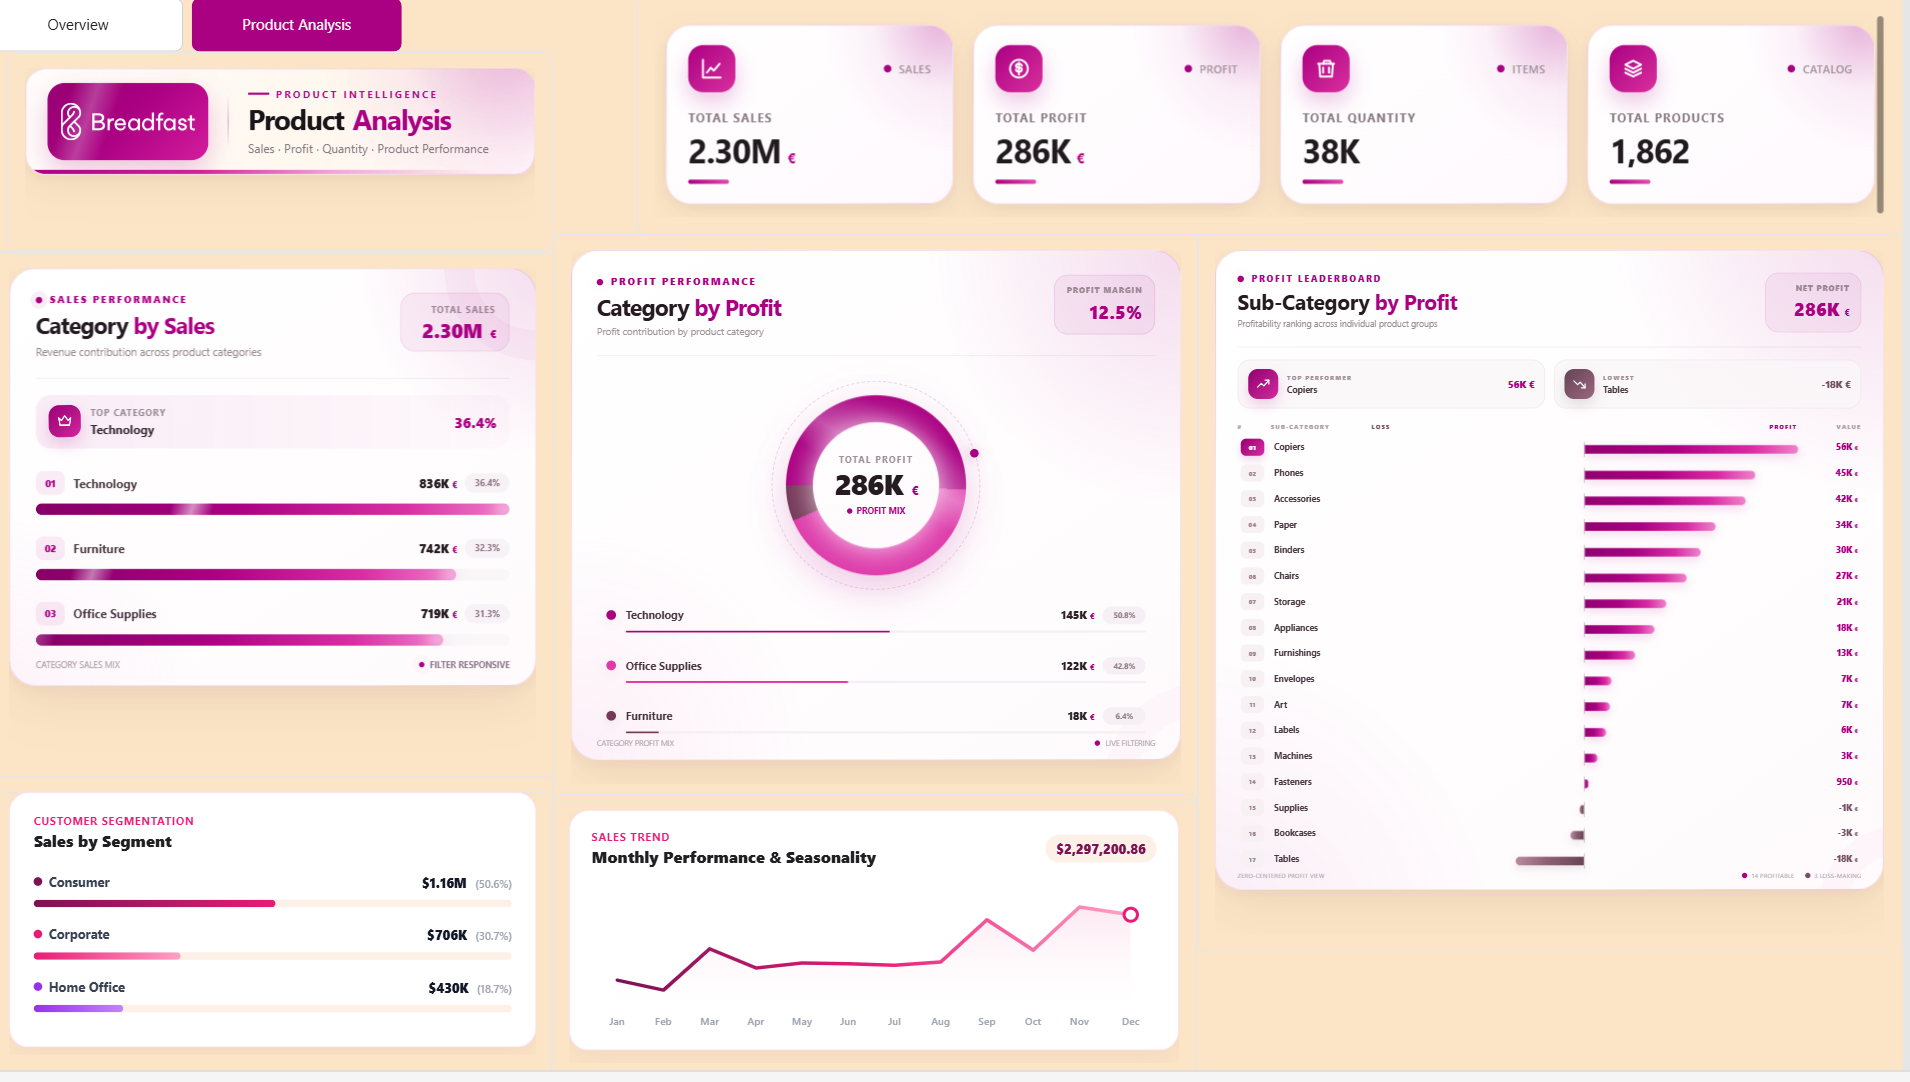

The dashboard page shown, as its layout file describes it:
{"tool":"powerbi","page":{"name":"Product Analysis","canvas":[1800,1000],"ordinal":1},"visuals":[{"type":"htmlContent443BE3AD55E043BF878BED274D3A6855","fields":{"content":["Dax Measures.BF KPI Cards HTML"]},"box":[618.6,0,1181.4,220.9],"z":0},{"type":"htmlContent443BE3AD55E043BF878BED274D3A6855","fields":{"content":["Dax Measures.BF Header Product Analysis"]},"box":[32.6,51.2,509.3,186],"z":1000},{"type":"htmlContent443BE3AD55E043BF878BED274D3A6855","fields":{"content":["Dax Measures.BF - Category Sales HTML"]},"box":[16.3,237.2,525.6,504.7],"z":2000},{"type":"htmlContent443BE3AD55E043BF878BED274D3A6855","fields":{"content":["Dax Measures.BF - Category Profit HTML"]},"box":[541.9,220.9,602.3,530.2],"z":3000},{"type":"htmlContent443BE3AD55E043BF878BED274D3A6855","fields":{"content":["Dax Measures.BF - SubCategory Profit HTML"]},"box":[1141.9,220.9,658.1,669.8],"z":4000},{"type":"htmlContent443BE3AD55E043BF878BED274D3A6855","fields":{"content":["Dax Measures.HTML_Monthly_Sales_Trend"]},"box":[539.5,741.9,602.3,267.4],"z":5000},{"type":"htmlContent443BE3AD55E043BF878BED274D3A6855","fields":{"content":["Dax Measures.HTML_Customer_Segments"]},"box":[16.3,725.6,525.6,276.7],"z":6000},{"type":"pageNavigator","box":[0,0,400,50],"z":6001}]}

Visuals, with their boxes in screenshot pixels (x1, y1, x2, y2), scaled from the page's 1800x1000 canvas onto the 1910x1082 screenshot:
htmlContent443BE3AD55E043BF878BED274D3A6855 - Dax Measures.BF KPI Cards HTML: <box>656,0,1909,239</box>
htmlContent443BE3AD55E043BF878BED274D3A6855 - Dax Measures.BF Header Product Analysis: <box>35,55,575,257</box>
htmlContent443BE3AD55E043BF878BED274D3A6855 - Dax Measures.BF - Category Sales HTML: <box>17,257,575,803</box>
htmlContent443BE3AD55E043BF878BED274D3A6855 - Dax Measures.BF - Category Profit HTML: <box>575,239,1214,813</box>
htmlContent443BE3AD55E043BF878BED274D3A6855 - Dax Measures.BF - SubCategory Profit HTML: <box>1212,239,1909,964</box>
htmlContent443BE3AD55E043BF878BED274D3A6855 - Dax Measures.HTML_Monthly_Sales_Trend: <box>572,803,1212,1081</box>
htmlContent443BE3AD55E043BF878BED274D3A6855 - Dax Measures.HTML_Customer_Segments: <box>17,785,575,1081</box>
pageNavigator: <box>0,0,424,54</box>
